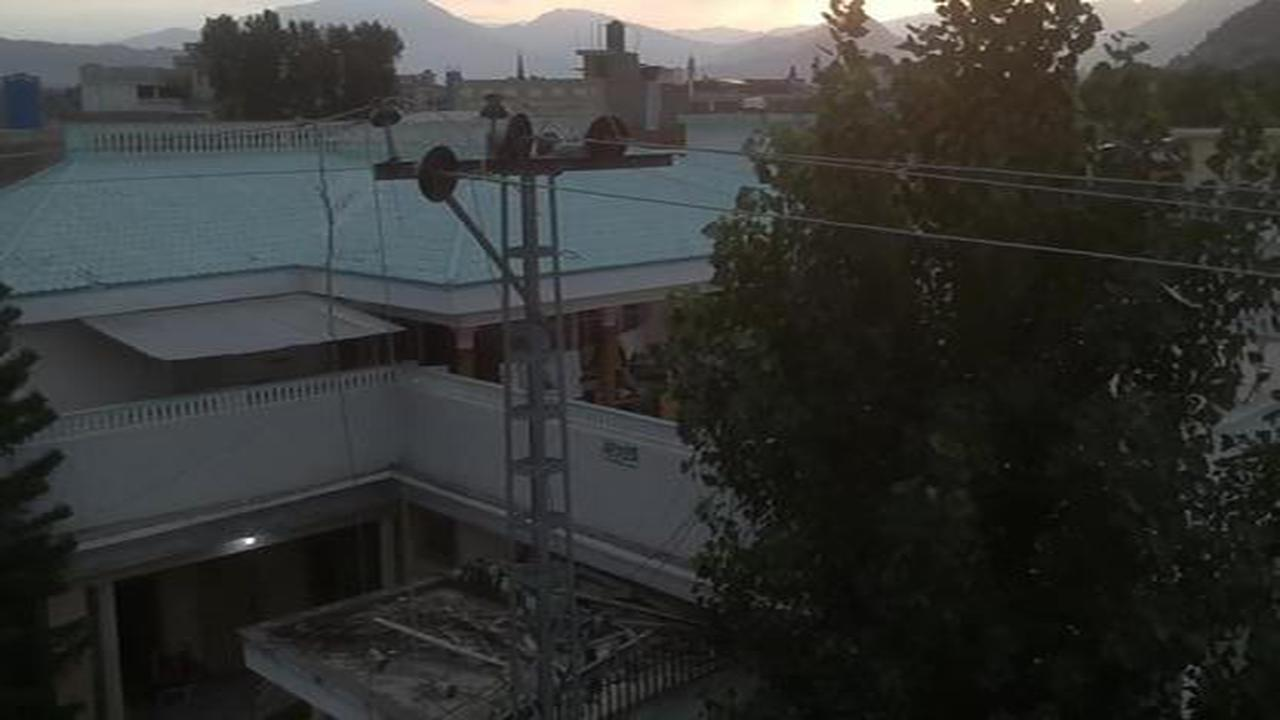insulator_disc: (417, 141, 464, 200), (581, 114, 634, 165), (499, 112, 537, 167)
insulator_pin: (369, 93, 402, 134), (477, 88, 510, 118)
